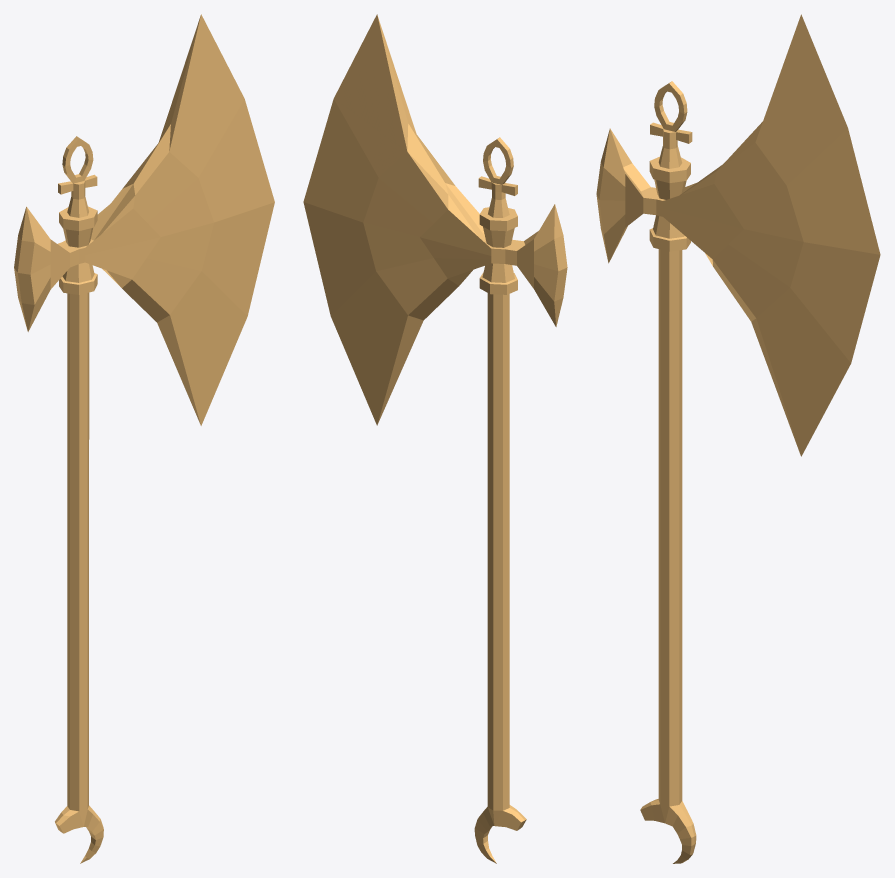
File: AnuAxe.fbx
3 renders of one model, left to right at view 1: azimuth 30°, elevation 25°; view 2: azimuth 150°, elevation 25°; view 3: azimuth 330°, elevation 25°, orthographic. The views are drawn at different scales.
Visible parts, largest first — view 1: Cylinder; view 2: Cylinder; view 3: Cylinder.
Part boxes in pixels (x1,y1,x2,y2): Cylinder: [14, 14, 274, 863]; Cylinder: [303, 14, 567, 863]; Cylinder: [596, 14, 880, 863].
Bounding box in the file's own units: 80.97 × 244 × 9.78.
